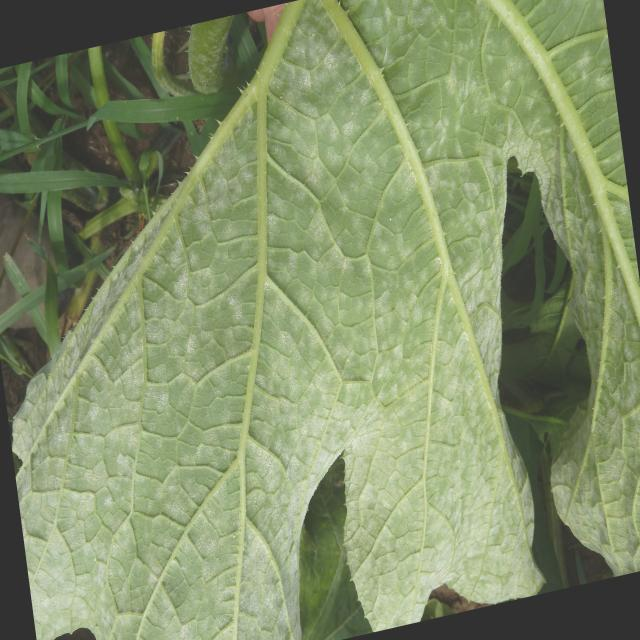Powdery Mildew: (7, 2, 636, 637)
